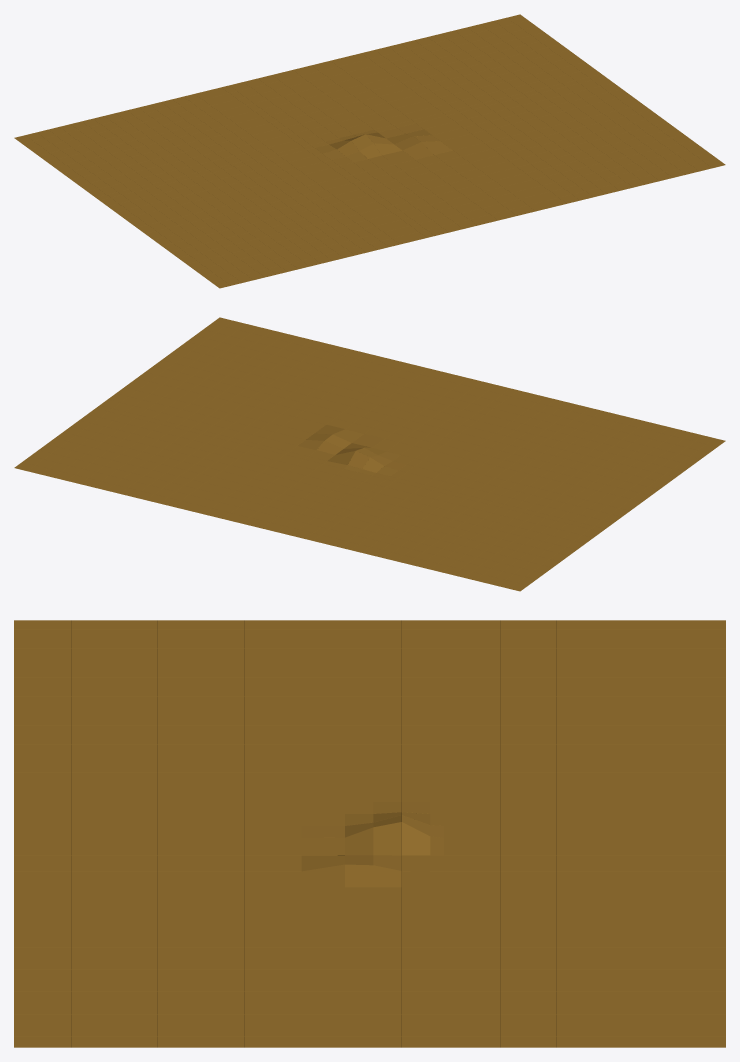
Rendered from desert-car.glb.
3 renders of one model, top to bottom at view 1: azimuth 30°, elevation 25°; view 2: azimuth 150°, elevation 25°; view 3: azimuth 270°, elevation 25°, orthographic. The views are drawn at different scales.
Visible parts, largest first — view 1: DESERT.002; view 2: DESERT.002; view 3: DESERT.002, DESERT.
Part boxes in pixels (left/top/right/bottom): DESERT.002: left=14, top=14, right=725, bottom=288; DESERT.002: left=14, top=317, right=725, bottom=591; DESERT.002: left=14, top=620, right=725, bottom=1047; DESERT: left=14, top=620, right=725, bottom=1047.
Size of the model in its own units: 7104 by 126 by 5001.
